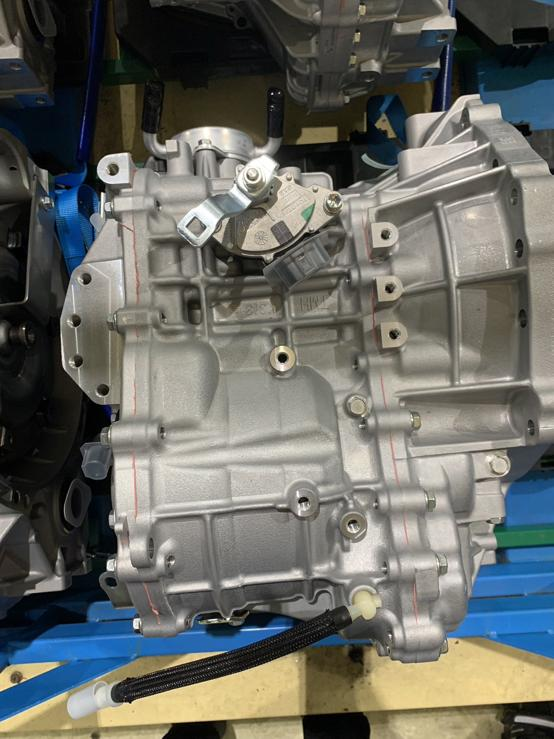gearbox_type1: (42, 98, 553, 659)
gearbox_type1_FP1: (367, 216, 400, 259)
gearbox_type1_FP2: (372, 272, 404, 306)
gearbox_type1_FP3: (95, 147, 137, 189)
